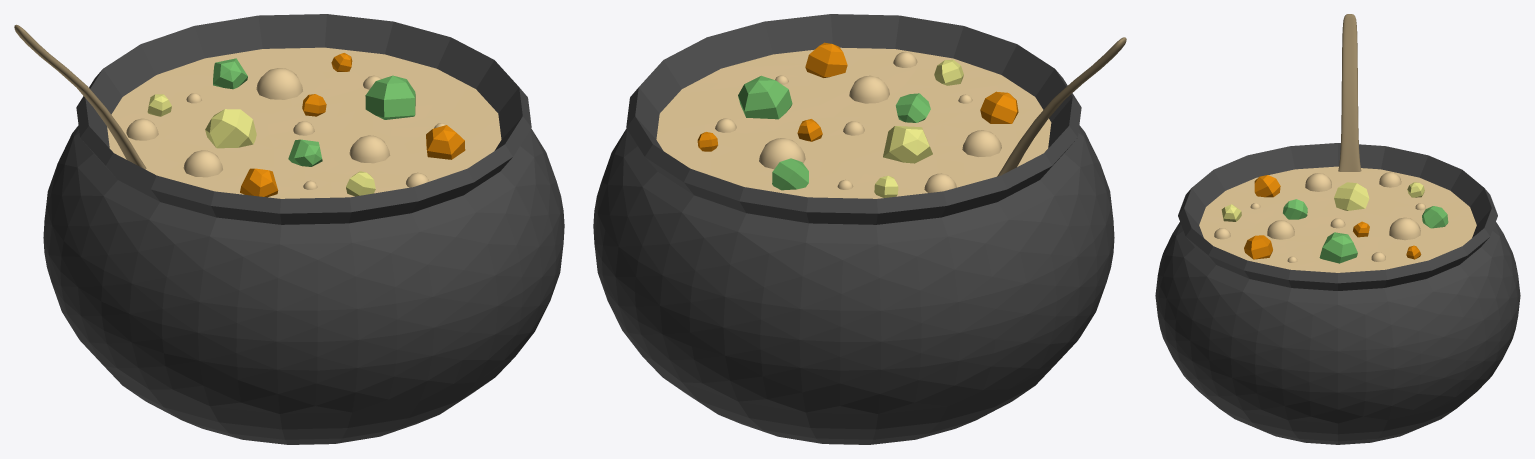
File: hotpot.fbx
3 renders of one model, left to right at view 1: azimuth 30°, elevation 25°; view 2: azimuth 150°, elevation 25°; view 3: azimuth 270°, elevation 25°, orthographic. The views are drawn at different scales.
Parts seen in each view (by area): view 1: pSphere1, pDisc2, pCube1, polySurface4, polySurface1, polySurface6, polySurface5, polySurface7, polySurface2, polySurface3; view 2: pSphere1, pDisc2, polySurface4, pCube1, polySurface1, polySurface6, polySurface5, polySurface7, polySurface2, polySurface3; view 3: pSphere1, pDisc2, pCube1, polySurface4, polySurface1, polySurface6, polySurface5, polySurface7, polySurface2.
Boxes of the visible parts, x1,y1,x2,y2 form: pSphere1: (43, 14, 564, 444); pDisc2: (107, 47, 501, 198); pCube1: (14, 24, 146, 169); polySurface4: (365, 75, 415, 119); polySurface1: (205, 109, 256, 148); polySurface6: (426, 125, 465, 159); polySurface5: (240, 168, 278, 197); polySurface7: (213, 58, 247, 89); polySurface2: (288, 139, 322, 166); polySurface3: (346, 171, 375, 196); pSphere1: (593, 14, 1114, 444); pDisc2: (656, 47, 1051, 198); polySurface4: (738, 75, 792, 119); pCube1: (997, 37, 1126, 176); polySurface1: (883, 126, 932, 163); polySurface6: (805, 42, 847, 77); polySurface5: (980, 91, 1018, 123); polySurface7: (772, 158, 808, 190); polySurface2: (895, 93, 930, 122); polySurface3: (934, 59, 963, 85); pSphere1: (1155, 143, 1520, 444); pDisc2: (1199, 166, 1476, 272); pCube1: (1338, 14, 1361, 171); polySurface4: (1319, 232, 1357, 263); polySurface1: (1334, 182, 1369, 210); polySurface6: (1244, 235, 1272, 259); polySurface5: (1254, 175, 1280, 197); polySurface7: (1422, 206, 1448, 228); polySurface2: (1283, 199, 1307, 219).
Bounding box in the file's own units: 14.98 × 12.77 × 13.42.
